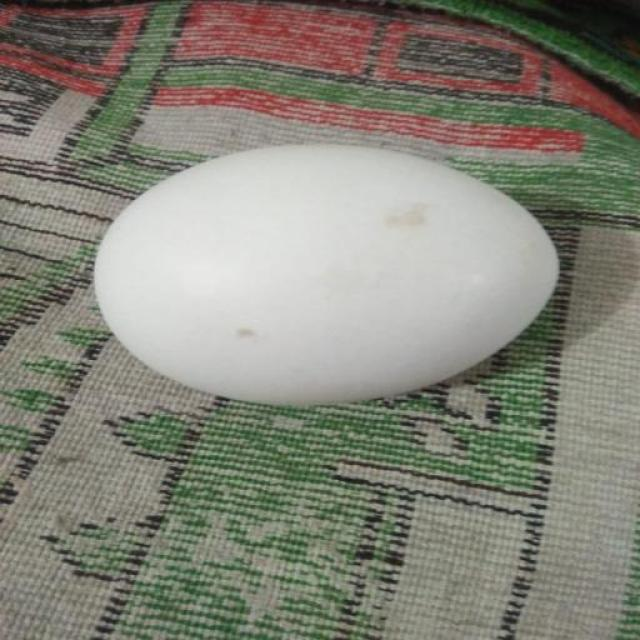telur: (88, 142, 559, 408)
